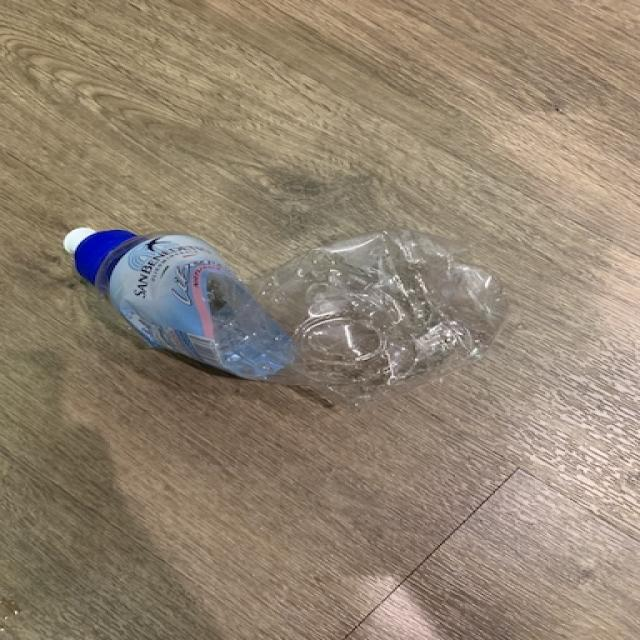Waste: (62, 228, 508, 402)
